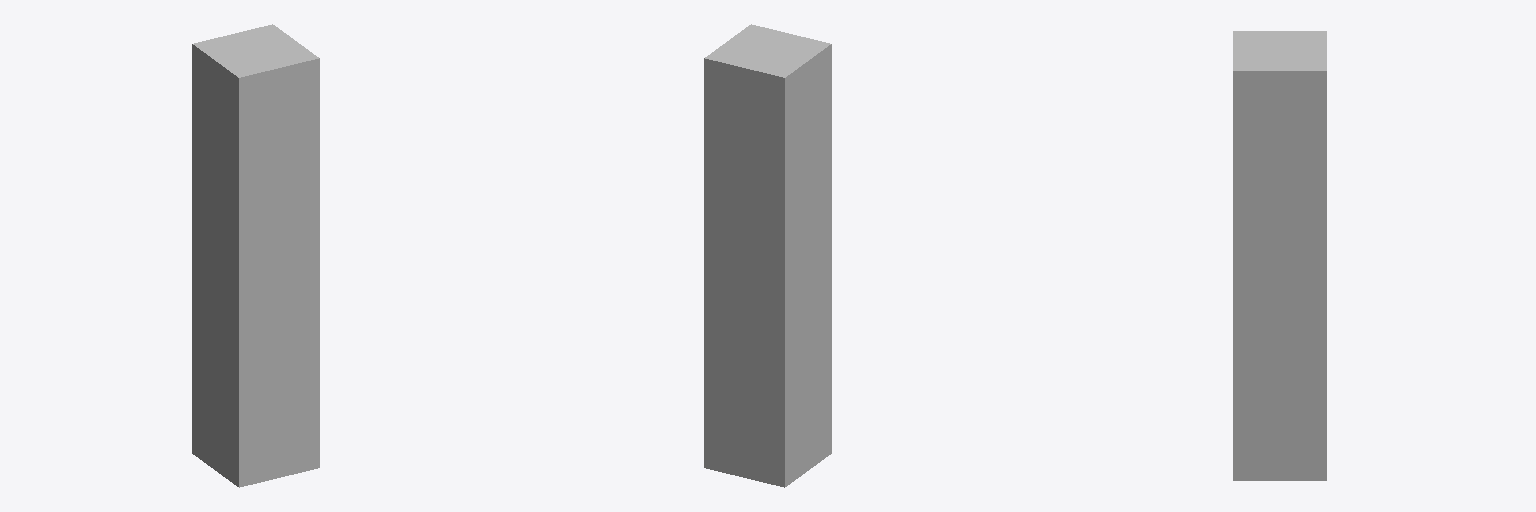
Rendered from PillarMax.obj.
3 views of the same model, side by side, from view 1: azimuth 30°, elevation 25°; view 2: azimuth 150°, elevation 25°; view 3: azimuth 270°, elevation 25° (orthographic).
Visible parts, largest first — view 1: collision; view 2: collision; view 3: collision.
Part boxes in pixels (x1,y1,x2,y2): collision: (192,24,319,487); collision: (704,24,831,487); collision: (1233,31,1326,480).
Bounding box in the file's own units: 1.43 × 6.93 × 1.43.